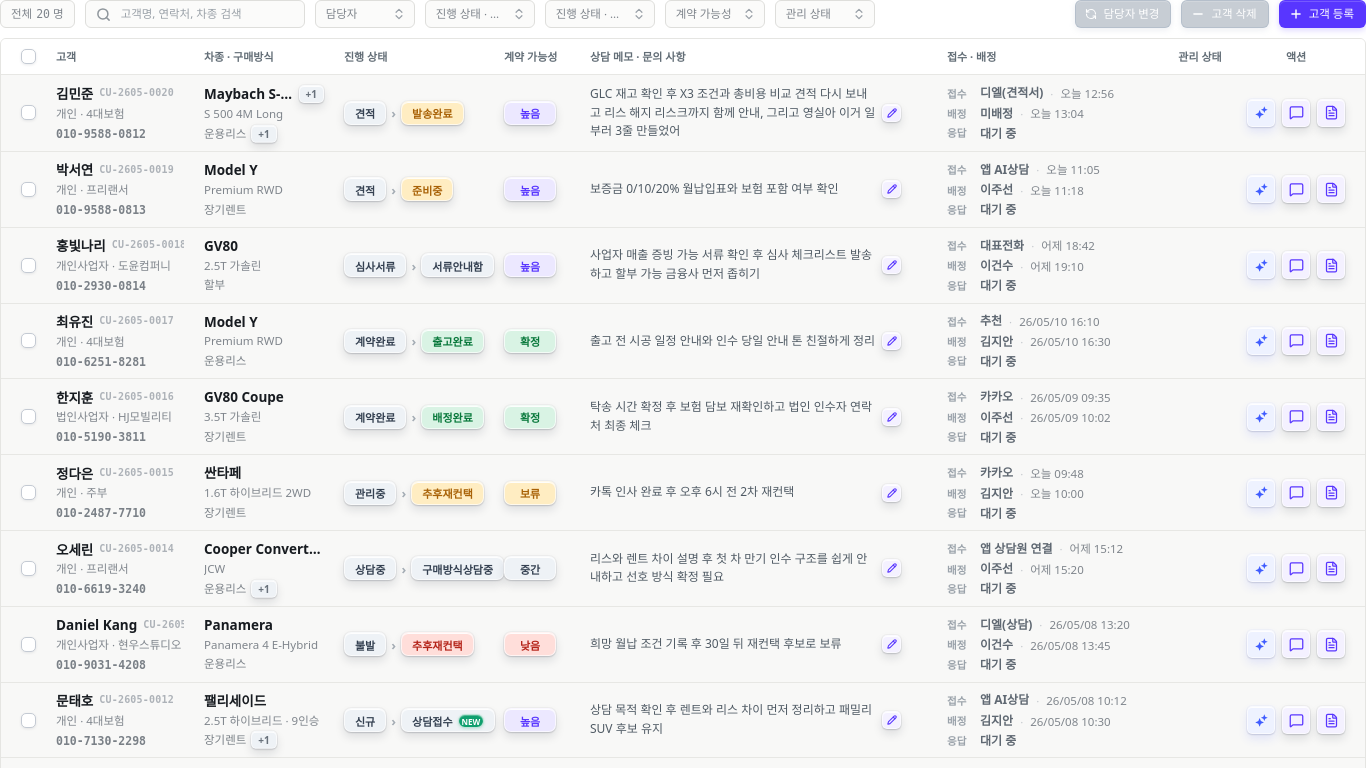
it: CustomerManagementPage › filters rows by search keyword
Type "Maybach" into the field with placeholder "고객명, 연락처, 차종 검색".
click(207, 14); type("Maybach")  # box [121,1,294,27]
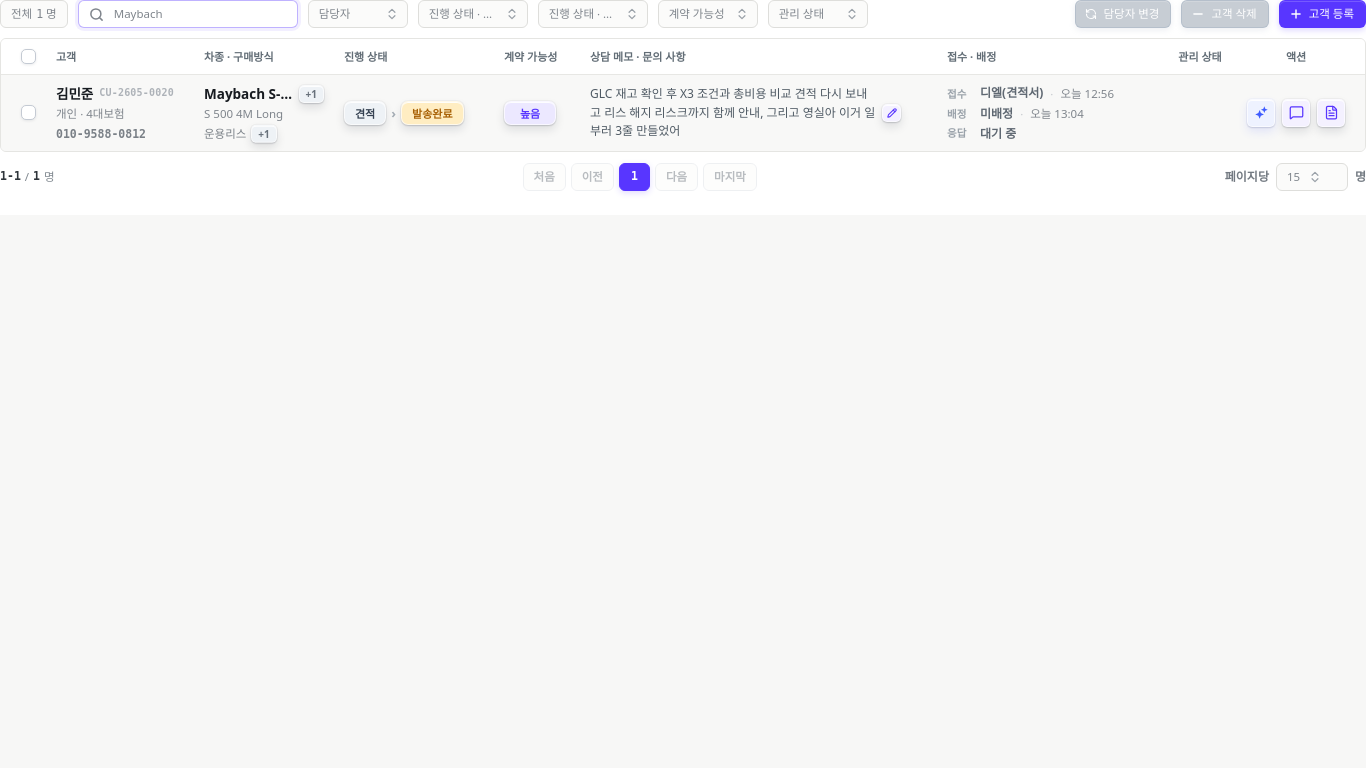
Expected: the text "김민준" is shown, [56,85,93,103]
Now the text "박서연" is gone
